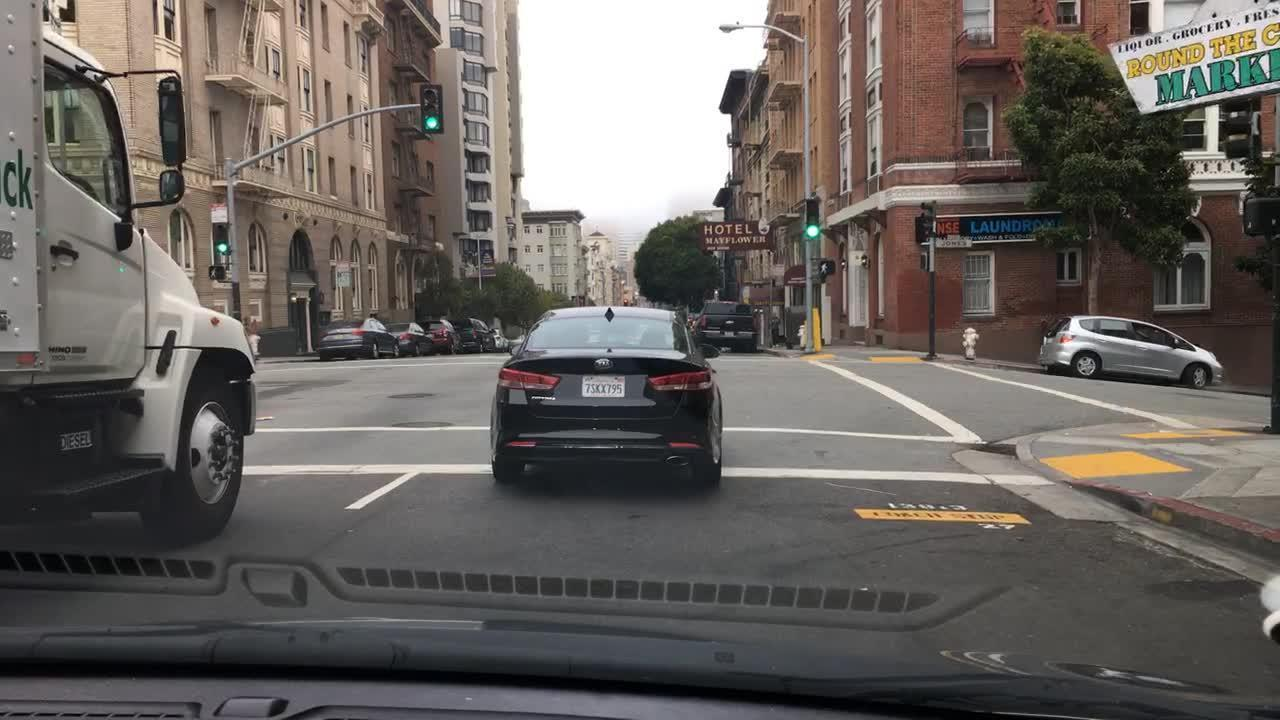kia: (594, 357, 614, 370)
